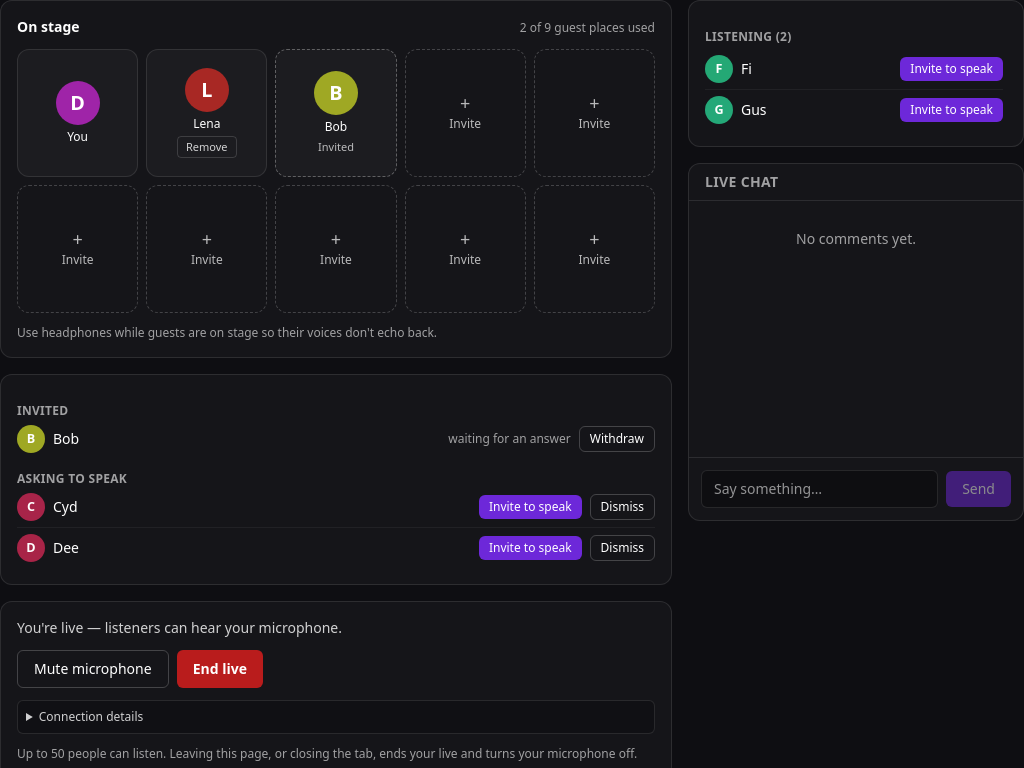
Test: HostConsole on a wide screen › shows the server's reason when a removal is refused
Click the button with aria-label "Remove Lena from the stage": (207, 147) [177,136,237,158]
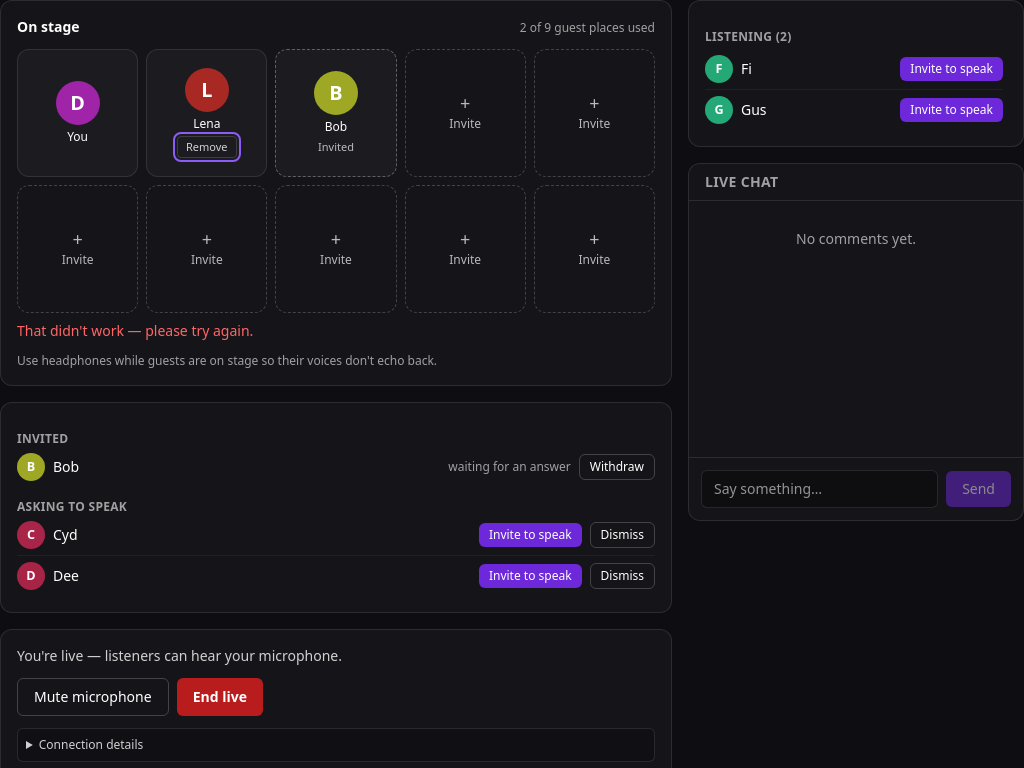
expect the message "That didn't work — please try again." is shown: met, box [17,321,253,340]
